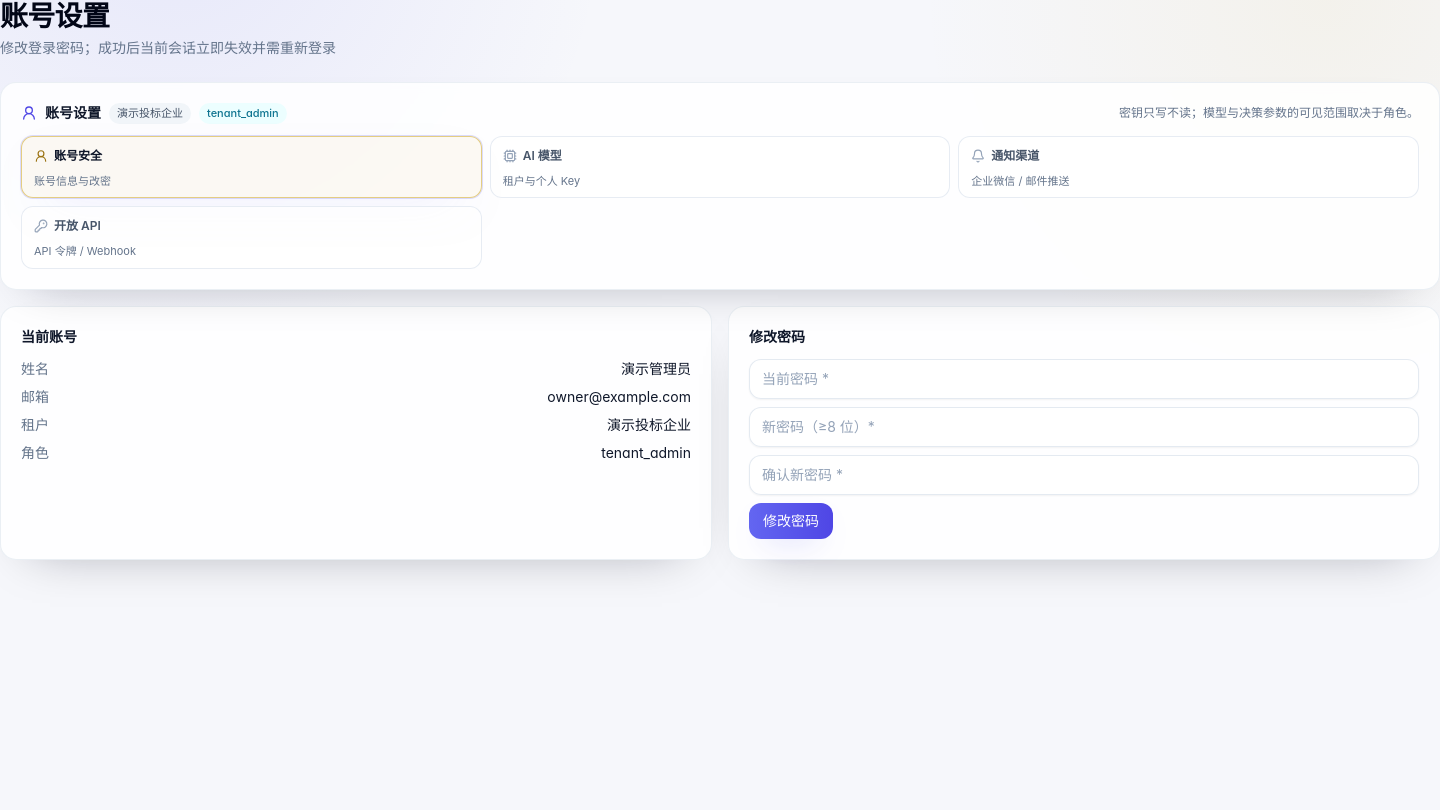
Test: SettingsPage 模型配置错误消息归属 › 租户模型保存失败时，错误消息出现在模型卡片（不串到账号安全页签）
切到「AI 模型」页签并等表单渲染（而不是「加载中…」）
Click the button "AI 模型 租户与个人 Key".
click(542, 155)  # box [490,136,950,198]
(page scrolled)
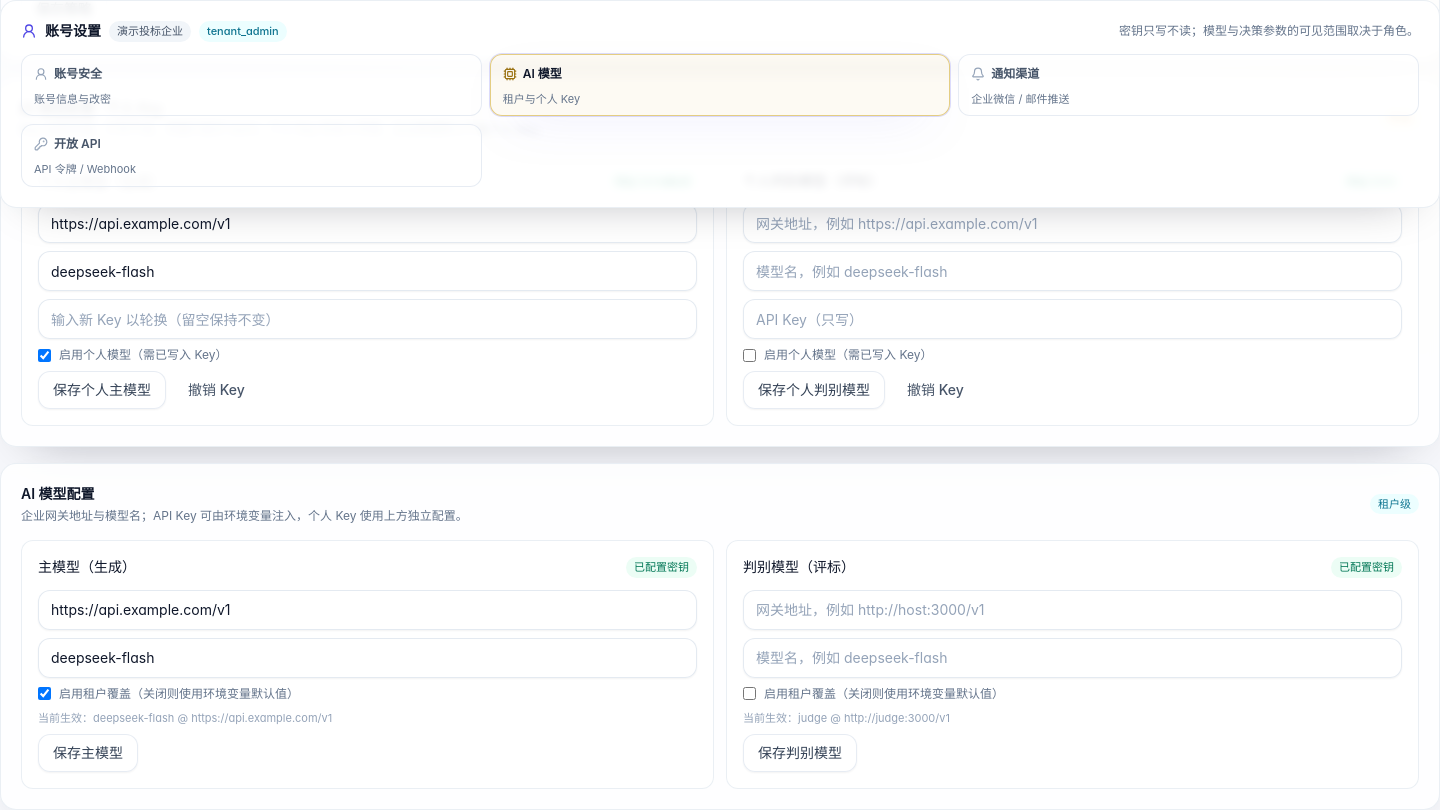
Replace the text in the 3rd field with placeholder "网关地址，例如 http://host:3000/v1" with "http://10.0.0.5:8080/v1" at (368, 610), box [38,590,697,630]
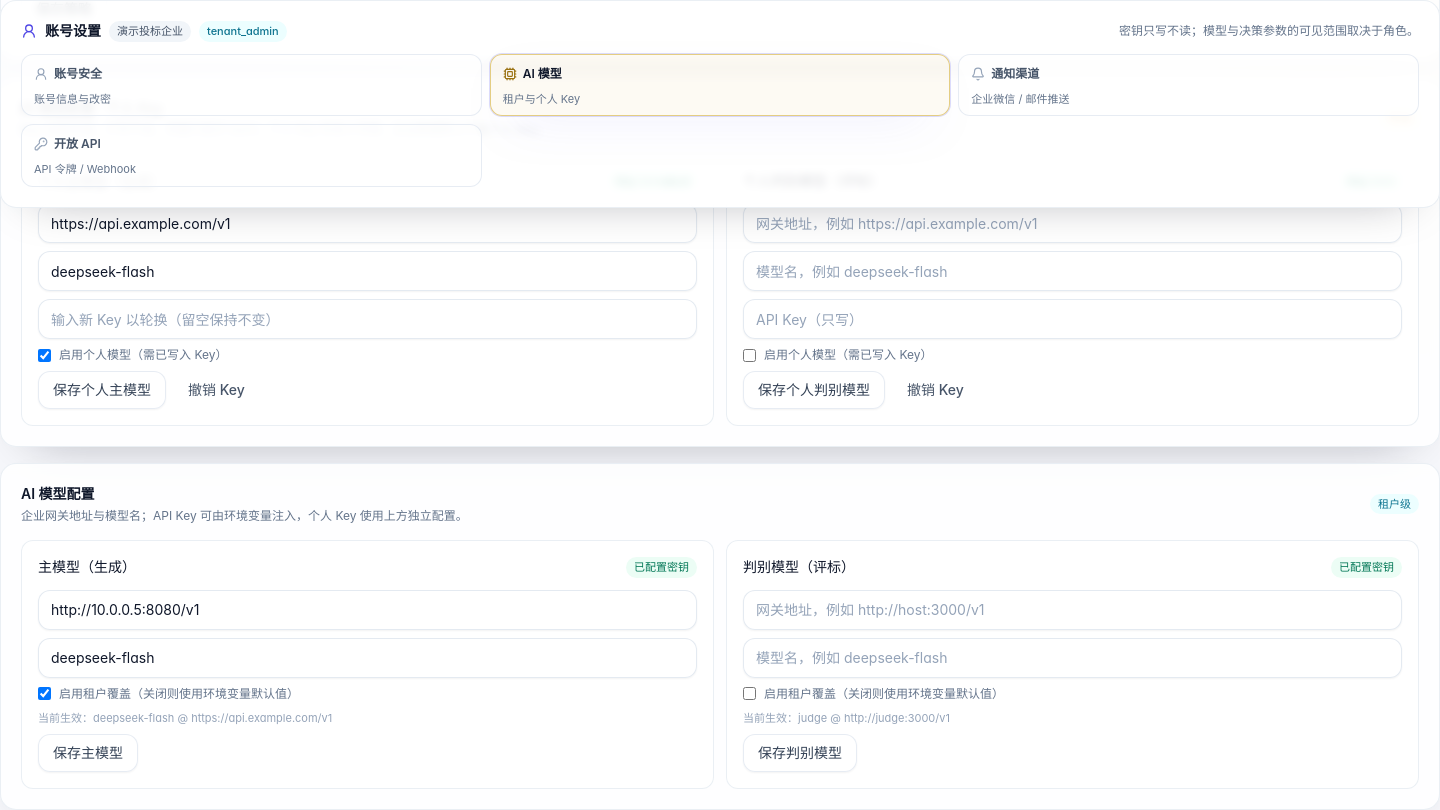
Click the button "保存主模型".
click(88, 753)  # box [38,734,138,772]
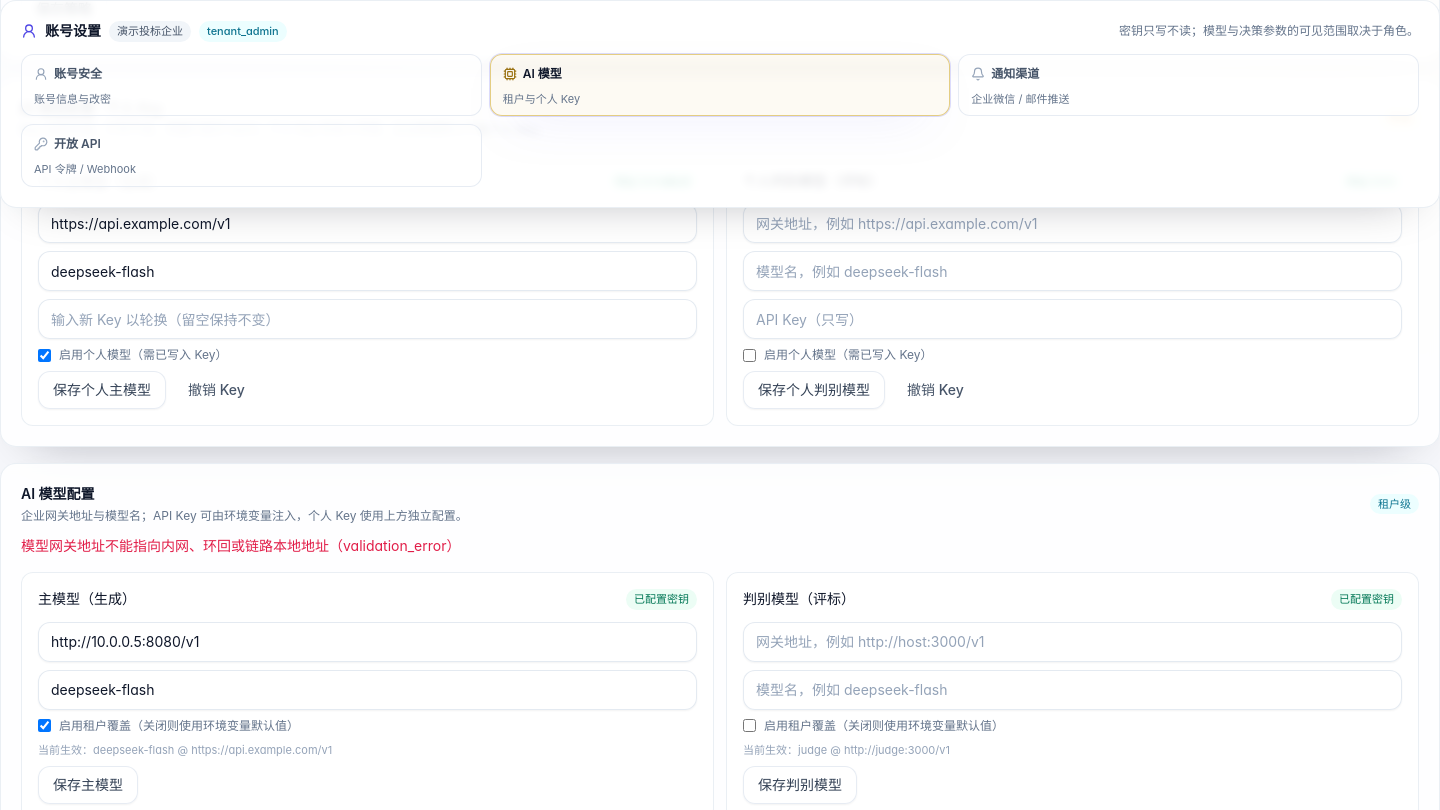
Expected: the heading "修改密码" is not shown
Now the text "模型网关地址不能指向内网、环回或链路本地地址（validation_error）" is shown, box [21,537,460,554]
